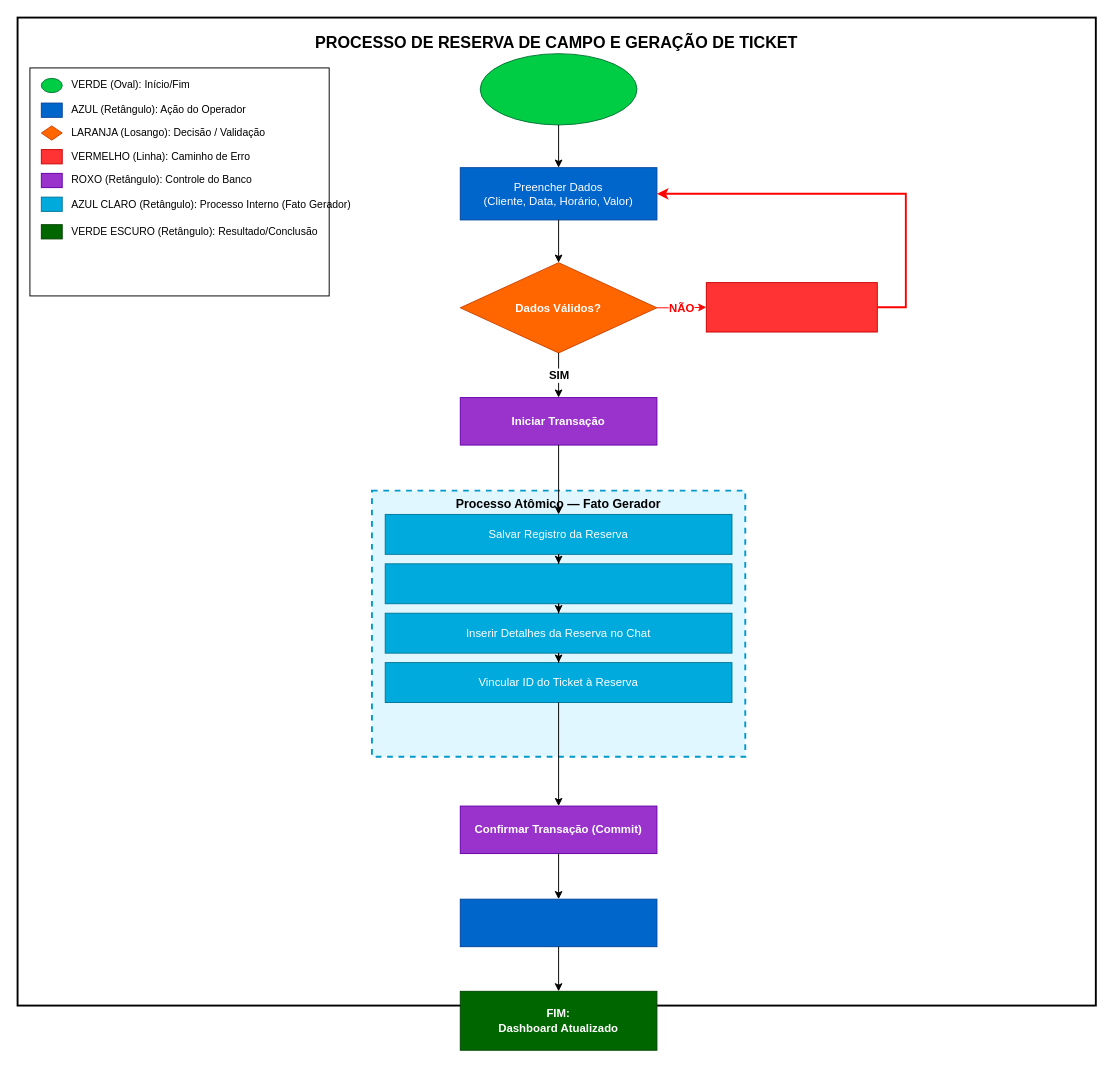
The diagram is 1112 pixels wide and 1067 high, and some of its shapes have lost their labels. The shapes that lost their labels are listed below. From the top down, each one's centre as x and y in pixels, then its label:
At point 558,89: "INÍCIO: Operador abre Tela de Reserva".
At point 791,307: "NÃO: Exibir Erro de Campos".
At point 558,583: "Gerar Ticket Automático".
At point 558,922: "Notificar Usuário: Sucesso!".
